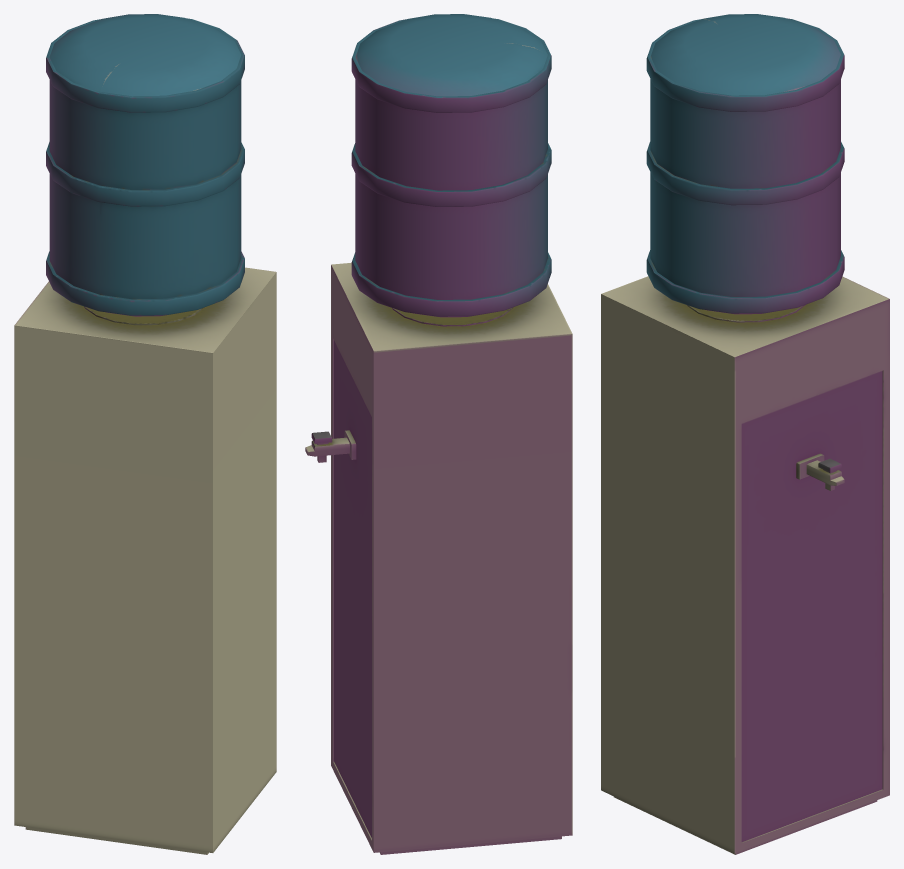
Rendered from Watercooler.fbx.
The picture shows the model from 3 angles, left to right: view 1: azimuth 30°, elevation 25°; view 2: azimuth 150°, elevation 25°; view 3: azimuth 270°, elevation 25°; orthographic projection.
Visible parts, largest first — view 1: Watercooler; view 2: Watercooler; view 3: Watercooler.
Boxes of the visible parts, x1,y1,x2,y2 form: Watercooler: [14, 14, 276, 854]; Watercooler: [305, 14, 572, 854]; Watercooler: [601, 14, 889, 854].
Bounding box in the file's own units: 48.87 × 141 × 48.96.
